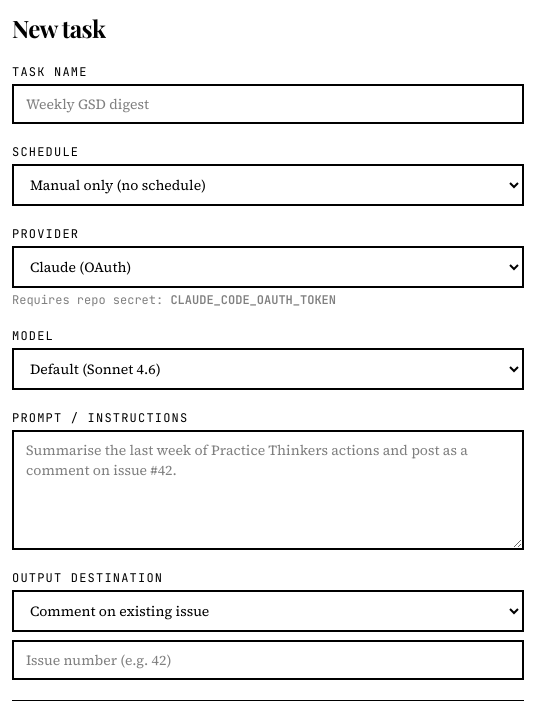
Scenario: TaskForm › shows file path input when output is "file"
Select "Commit to file" in the dropdown labelled "Output destination" at (268, 611), box [12, 590, 524, 632]
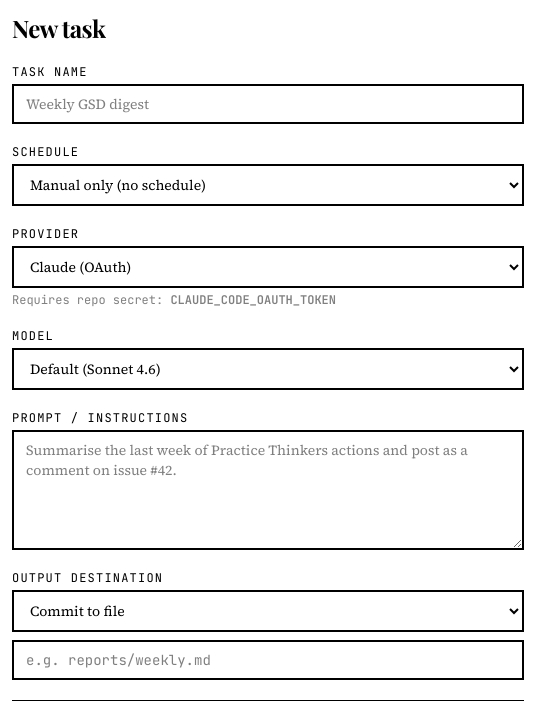
Expected: the field with placeholder "e.g. reports/weekly.md" is shown, [12, 640, 524, 680]
